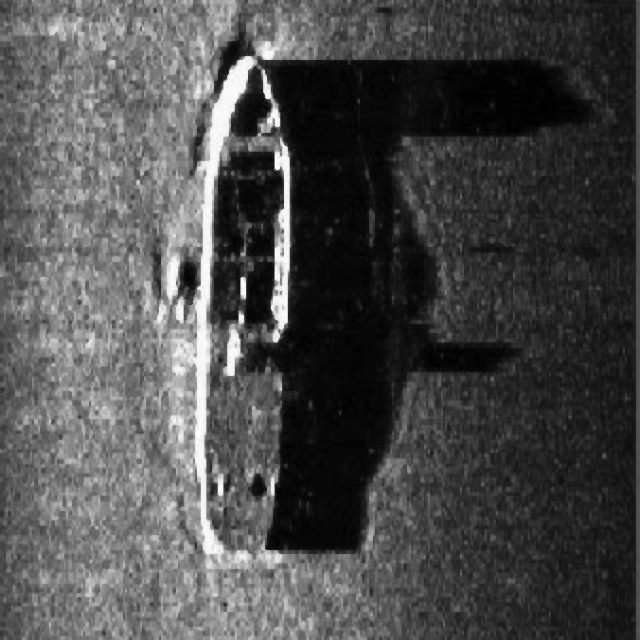Ship: (143, 43, 305, 565)
